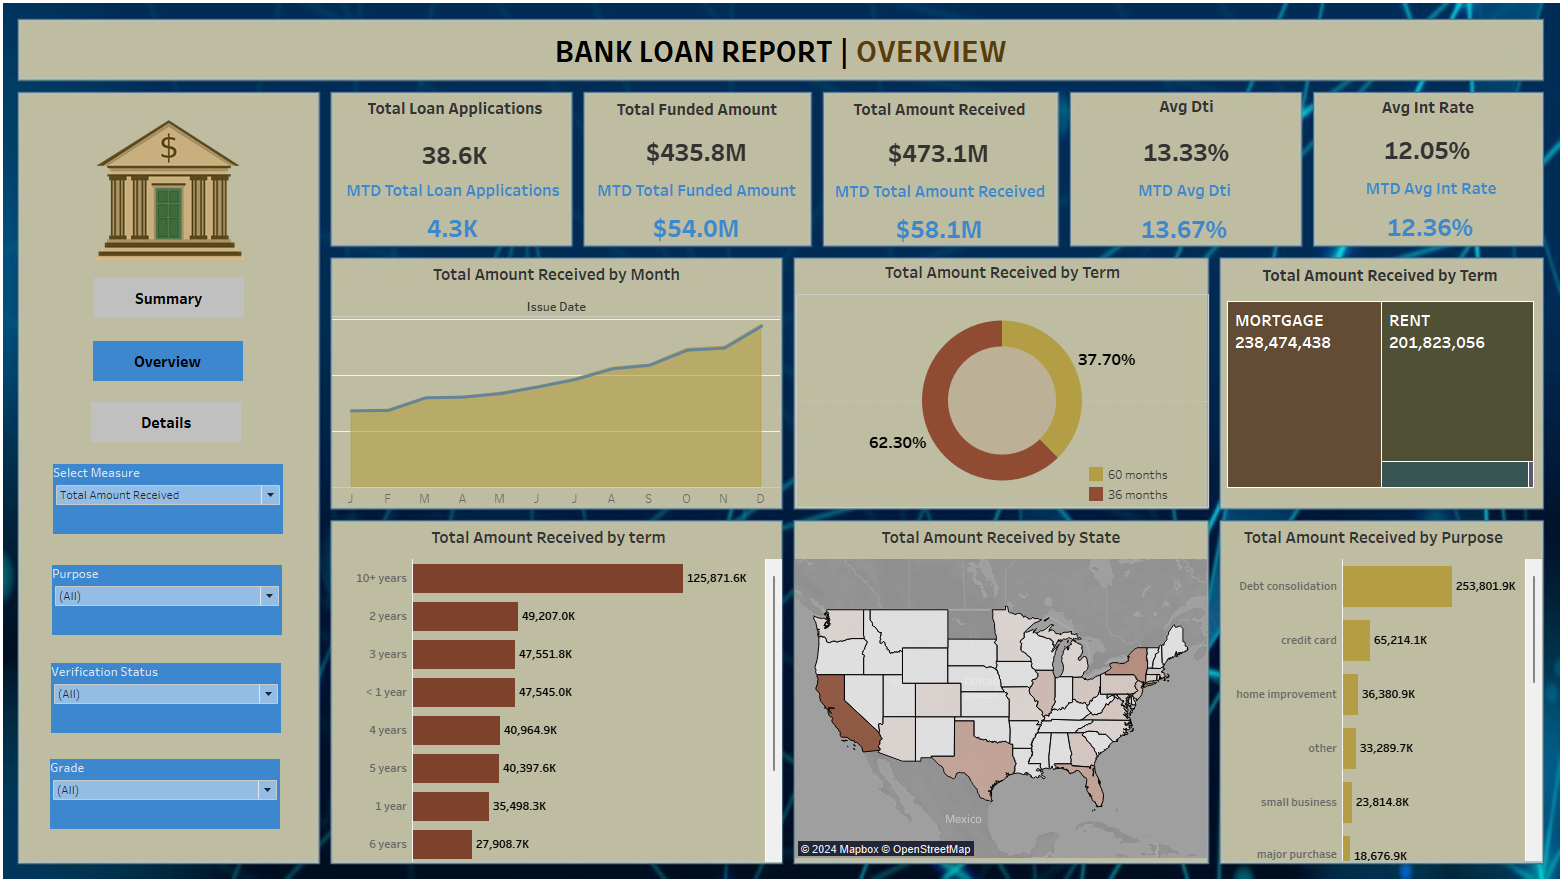

The page's visual inventory and layout, read from the dashboard file:
{"tool":"tableau","page":{"name":"OVERVIEW","canvas":[1600,900],"ordinal":1},"visuals":[{"type":"image","param":"Image/Background2.jpg","box":[8,8,1584,884]},{"type":"text","box":[40,32,1518,54]},{"type":"worksheet","title":"Avg Dti","mark":"Automatic","box":[1089,100,231,84]},{"type":"worksheet","title":"Avg Int Rate","mark":"Automatic","box":[1333,101,226,79]},{"type":"worksheet","title":"Total Loan Applications","mark":"Automatic","box":[358,102,230,87]},{"type":"worksheet","title":"Total Funded Amount","mark":"Automatic","box":[603,103,224,79]},{"type":"worksheet","title":"Total Amount Received","mark":"Automatic","box":[841,103,233,81]},{"type":"image","param":"Image/Document bank.png","box":[113,128,180,140]},{"type":"worksheet","title":"MTD Avg Int Rate","mark":"Automatic","box":[1334,182,230,70]},{"type":"worksheet","title":"MTD Total Loan Applications","mark":"Automatic","box":[356,184,230,69]},{"type":"worksheet","title":"MTD Total Funded Amount","mark":"Automatic","box":[601,184,227,69]},{"type":"worksheet","title":"MTD Avg Dti","mark":"Automatic","box":[1089,184,227,70]},{"type":"worksheet","title":"MTD Total Amount Received","mark":"Automatic","box":[842,185,232,69]},{"type":"worksheet","title":"Term","mark":"Pie","rows":["Calculation_439382495616049154","Calculation_439382495616049154"],"box":[814,266,413,251]},{"type":"worksheet","title":"Month","mark":"Area","rows":["Calculation_439382495560077312","Calculation_439382495560077312"],"cols":["issue_date"],"box":[350,268,449,250]},{"type":"worksheet","title":"Home Ownership","mark":"Automatic","box":[1241,269,314,247]},{"type":"dashboard-object","box":[112,287,150,40]},{"type":"dashboard-object","box":[111,350,150,40]},{"type":"dashboard-object","box":[109,411,150,40]},{"type":"legend","title":"Term","param":"[federated.1adml930tu6t5w1aidls701bf2zq].[none:term:nk]","box":[1104,455,140,58]},{"type":"parameter","param":"[Parameters].[Parameter 1]","box":[71,473,230,70]},{"type":"worksheet","title":"Emp Length","mark":"Automatic","rows":["emp_length"],"cols":["Calculation_439382495560077312"],"box":[350,531,450,340]},{"type":"worksheet","title":"State","mark":"Automatic","box":[813,531,412,336]},{"type":"worksheet","title":"Purpose","mark":"Automatic","rows":["purpose"],"cols":["Calculation_439382495560077312"],"box":[1240,531,320,339]},{"type":"filter","title":"Avg Dti","param":"[federated.1adml930tu6t5w1aidls701bf2zq].[none:purpose:nk]","box":[70,574,230,70]},{"type":"filter","title":"Avg Dti","param":"[federated.1adml930tu6t5w1aidls701bf2zq].[none:verification_status:nk]","box":[69,672,230,70]},{"type":"filter","title":"Avg Dti","param":"[federated.1adml930tu6t5w1aidls701bf2zq].[none:grade:nk]","box":[68,768,230,70]}]}

Visuals, with their boxes in screenshot pixels (x1, y1, x2, y2), scaled from the page's 1600x900 canvas onto the 1563x881 screenshot:
image: [x1=8, y1=8, x2=1555, y2=873]
text: [x1=39, y1=31, x2=1522, y2=84]
"Avg Dti" worksheet: [x1=1064, y1=98, x2=1289, y2=180]
"Avg Int Rate" worksheet: [x1=1302, y1=99, x2=1523, y2=176]
"Total Loan Applications" worksheet: [x1=350, y1=100, x2=574, y2=185]
"Total Funded Amount" worksheet: [x1=589, y1=101, x2=808, y2=178]
"Total Amount Received" worksheet: [x1=822, y1=101, x2=1049, y2=180]
image: [x1=110, y1=125, x2=286, y2=262]
"MTD Avg Int Rate" worksheet: [x1=1303, y1=178, x2=1528, y2=247]
"MTD Total Loan Applications" worksheet: [x1=348, y1=180, x2=572, y2=248]
"MTD Total Funded Amount" worksheet: [x1=587, y1=180, x2=809, y2=248]
"MTD Avg Dti" worksheet: [x1=1064, y1=180, x2=1286, y2=249]
"MTD Total Amount Received" worksheet: [x1=823, y1=181, x2=1049, y2=249]
"Term" worksheet (Pie marks): [x1=795, y1=260, x2=1199, y2=506]
"Month" worksheet (Area marks): [x1=342, y1=262, x2=781, y2=507]
"Home Ownership" worksheet: [x1=1212, y1=263, x2=1519, y2=505]
dashboard-object: [x1=109, y1=281, x2=256, y2=320]
dashboard-object: [x1=108, y1=343, x2=255, y2=382]
dashboard-object: [x1=106, y1=402, x2=253, y2=441]
"Term" legend: [x1=1078, y1=445, x2=1215, y2=502]
parameter: [x1=69, y1=463, x2=294, y2=532]
"Emp Length" worksheet: [x1=342, y1=520, x2=782, y2=853]
"State" worksheet: [x1=794, y1=520, x2=1197, y2=849]
"Purpose" worksheet: [x1=1211, y1=520, x2=1524, y2=852]
"Avg Dti" filter: [x1=68, y1=562, x2=293, y2=630]
"Avg Dti" filter: [x1=67, y1=658, x2=292, y2=726]
"Avg Dti" filter: [x1=66, y1=752, x2=291, y2=820]
